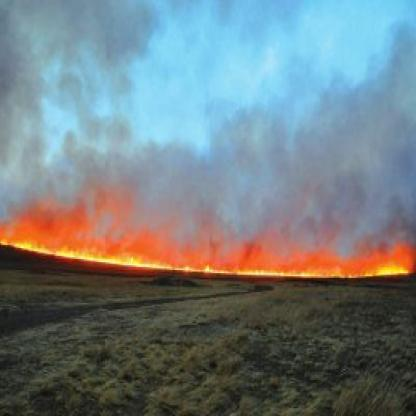fire: (2, 206, 410, 280)
